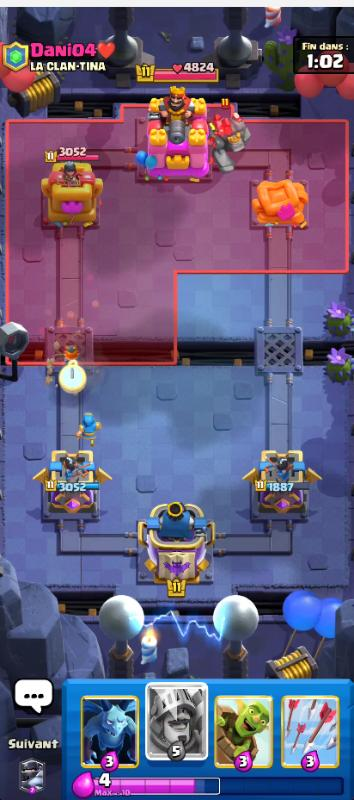valkyrie: (59, 345, 83, 371)
